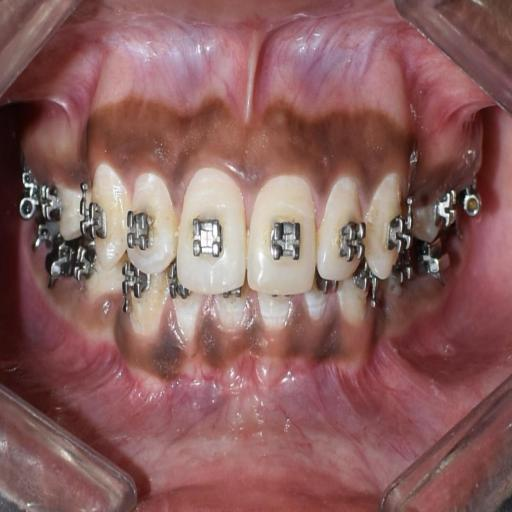correct_brace: (185, 214, 226, 262), (265, 214, 306, 261), (122, 203, 156, 259), (336, 216, 368, 266)
incorrect_brace: (316, 168, 370, 287), (122, 168, 178, 277)
